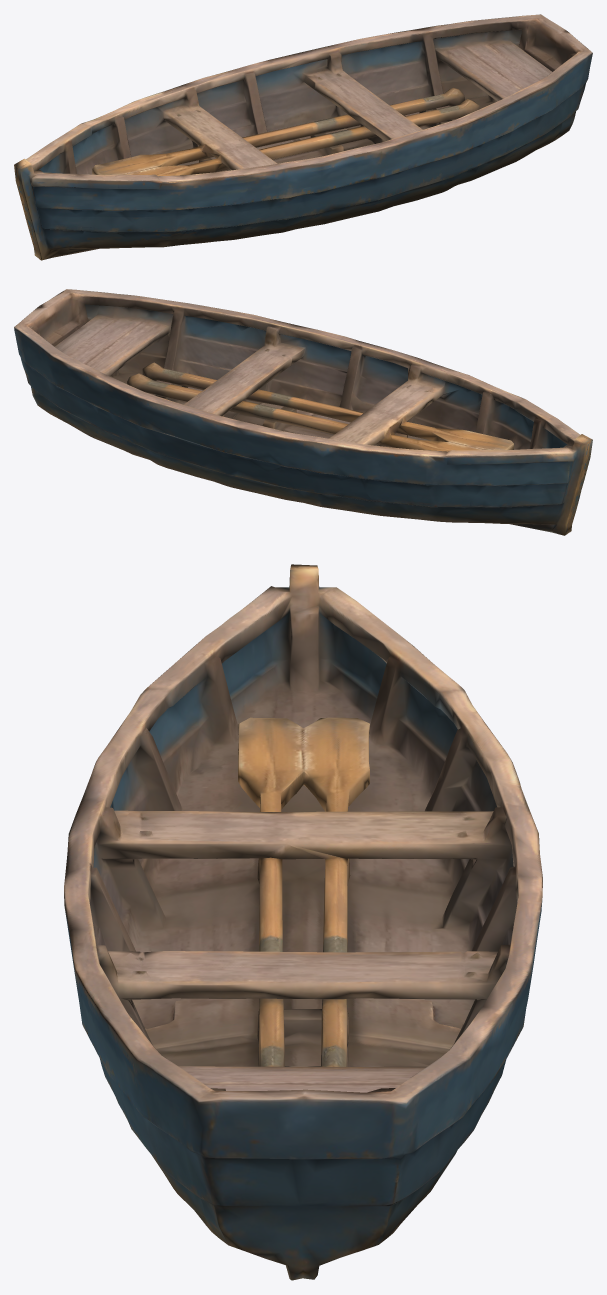
File: bote-dos-visitantes.glb
3 renders of one model, top to bottom at view 1: azimuth 30°, elevation 25°; view 2: azimuth 150°, elevation 25°; view 3: azimuth 270°, elevation 25°, orthographic. The views are drawn at different scales.
Parts seen in each view (by area): view 1: tripo_node_dc0bc09c-6f43-41ee-a831-c813d412371c; view 2: tripo_node_dc0bc09c-6f43-41ee-a831-c813d412371c; view 3: tripo_node_dc0bc09c-6f43-41ee-a831-c813d412371c.
Part boxes in pixels (x1=…): tripo_node_dc0bc09c-6f43-41ee-a831-c813d412371c: x1=14, y1=14, x2=592, y2=260; tripo_node_dc0bc09c-6f43-41ee-a831-c813d412371c: x1=14, y1=289, x2=592, y2=535; tripo_node_dc0bc09c-6f43-41ee-a831-c813d412371c: x1=64, y1=564, x2=542, y2=1280.
Size of the model in its own units: 3.6 by 0.6698 by 1.36.
1 material, 1 textured.
